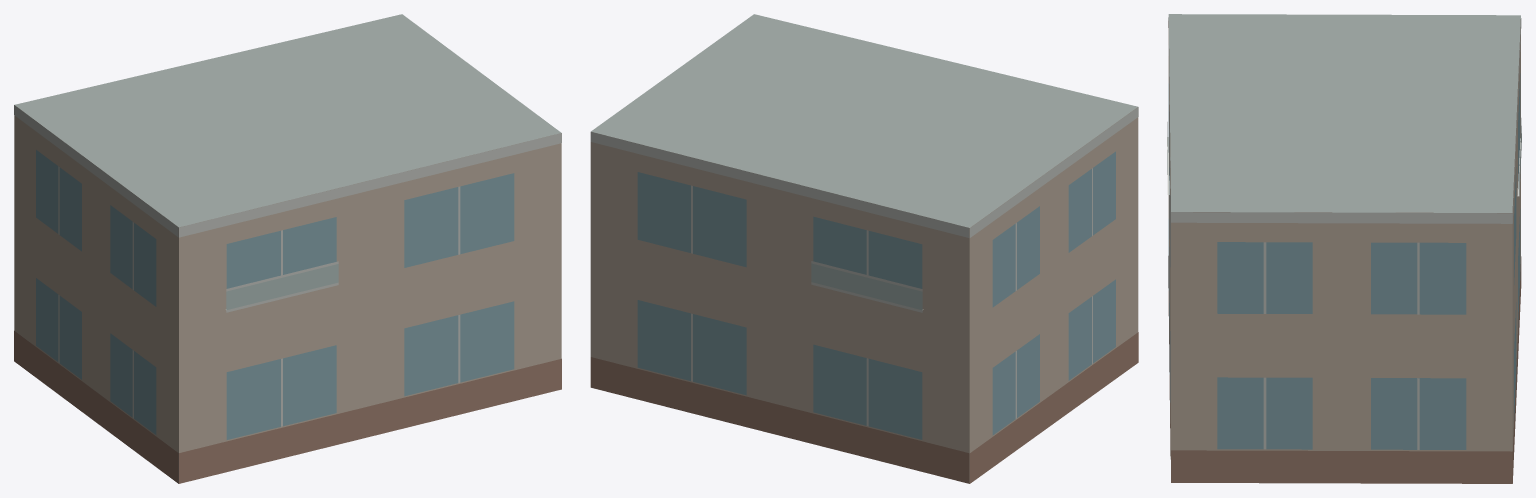
Rendered from survey-upis-32656576.glb.
3 renders of one model, left to right at view 1: azimuth 30°, elevation 25°; view 2: azimuth 150°, elevation 25°; view 3: azimuth 270°, elevation 25°, orthographic. The views are drawn at different scales.
Visible parts, largest first — view 1: survey-upis-32656576.tmp; view 2: survey-upis-32656576.tmp; view 3: survey-upis-32656576.tmp.
Boxes of the visible parts, box(x1,y1,x2,y2) form: survey-upis-32656576.tmp: box(14, 14, 561, 483); survey-upis-32656576.tmp: box(590, 14, 1138, 483); survey-upis-32656576.tmp: box(1167, 14, 1521, 483).
Bounding box in the file's own units: 9.62 × 6.1 × 7.24.
